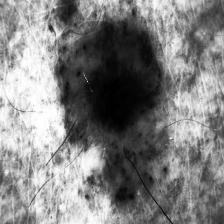Benign Marking or Mole: (56, 0, 176, 205)
